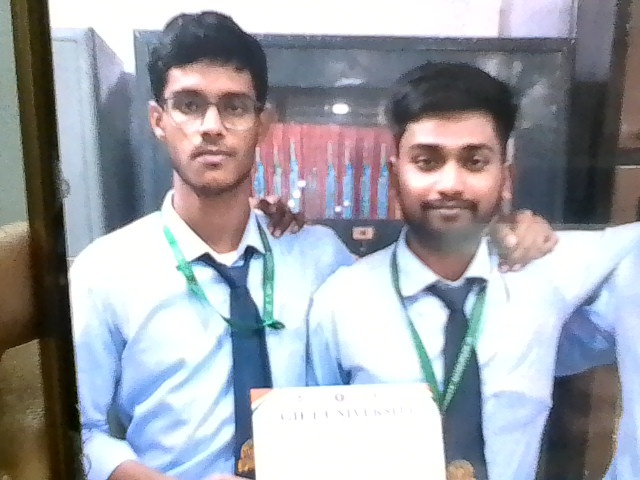real: (391, 72, 520, 255), (148, 23, 272, 199)
